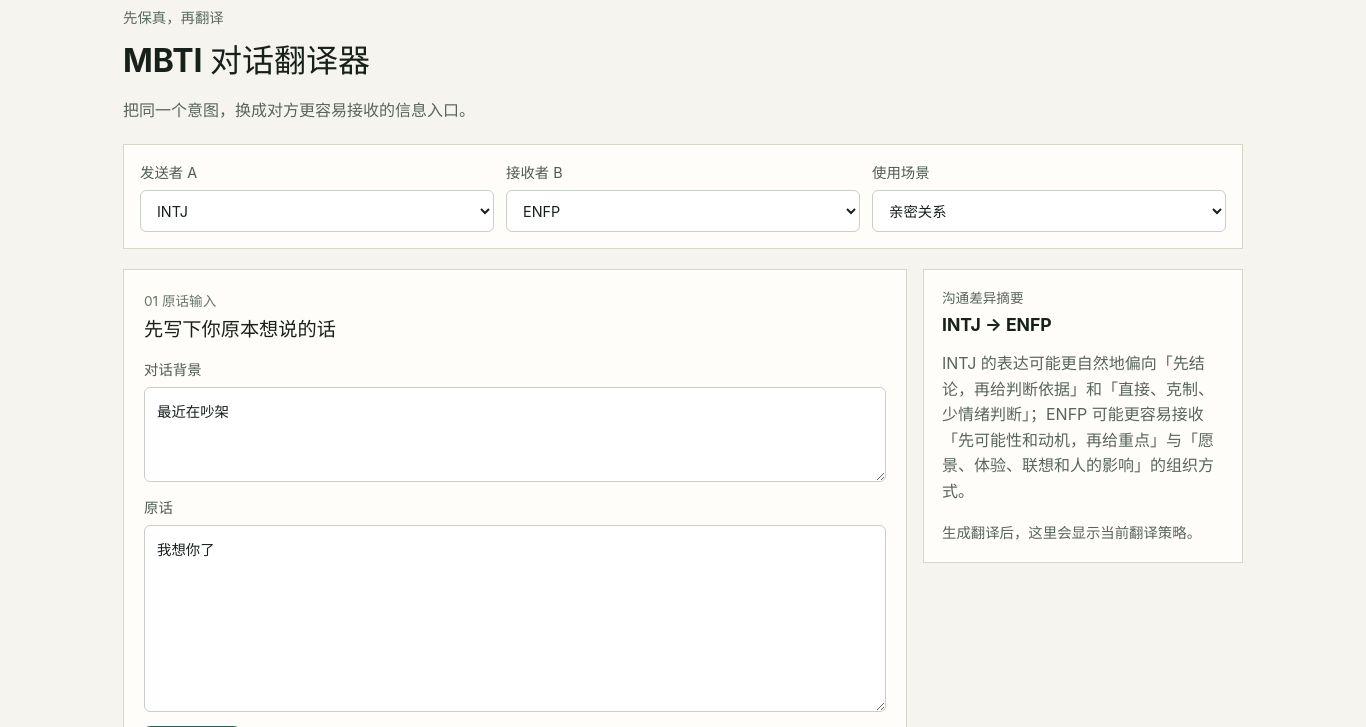
Test: ignores a stale intent response after the user changes the request input
Replace the text in the text box labelled "原话" with "你这样让我很没有安全感。" at (515, 619), box [144,525,886,712]
(page scrolled)
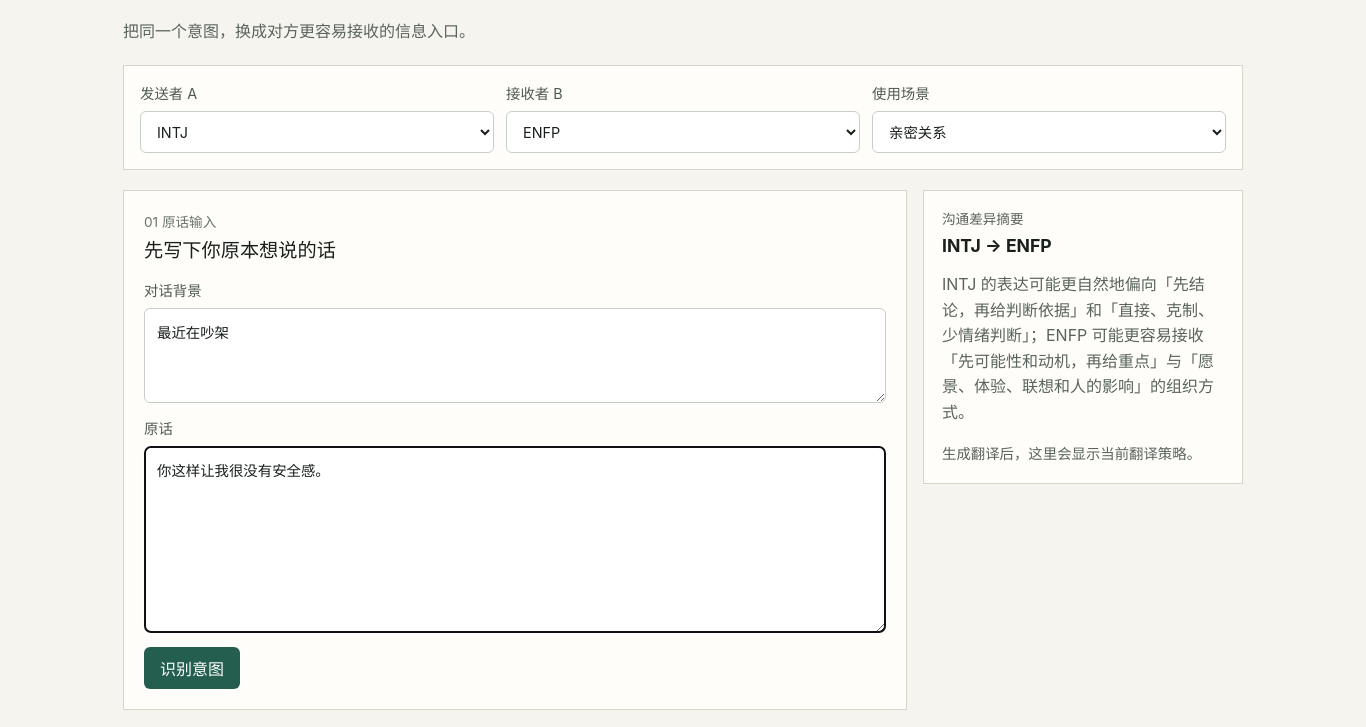
Click the button "识别意图" at (192, 668), box [144,647,240,689]
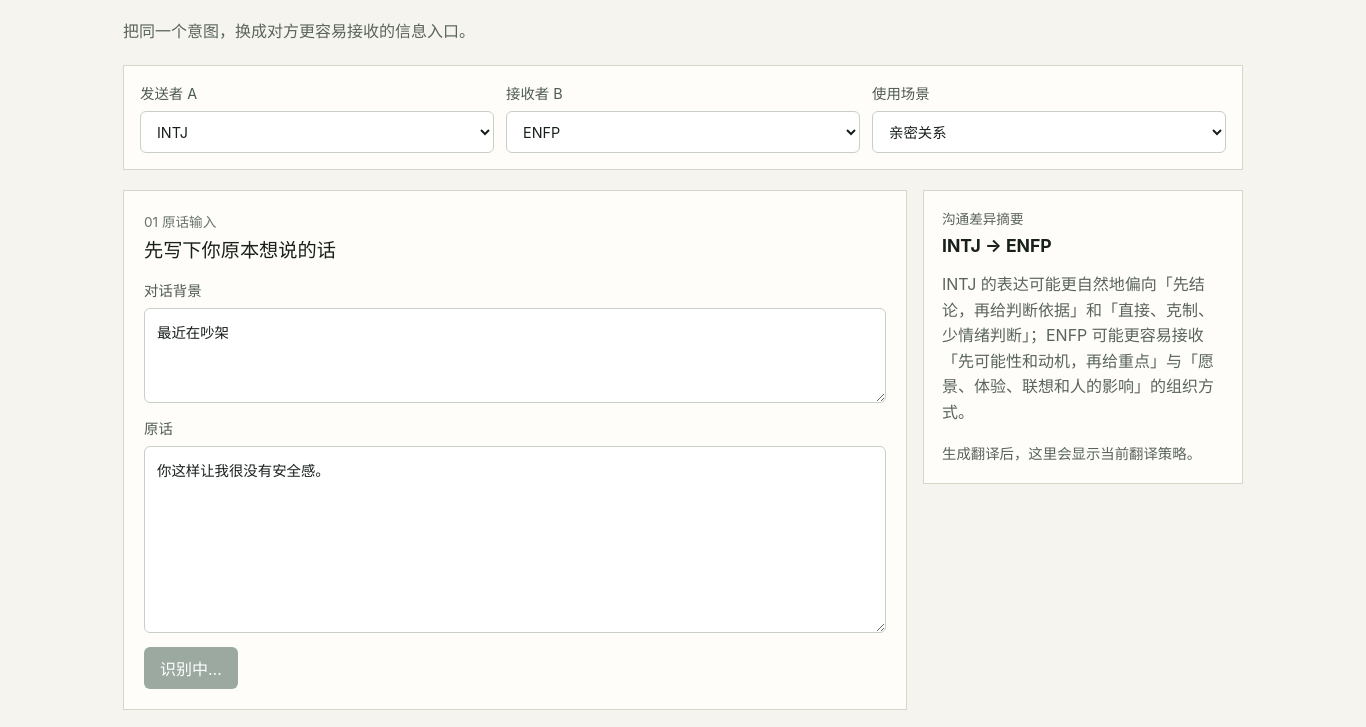
Select "ESFP" in the dropdown labelled "接收者 B" at (683, 132), box [506,111,860,153]
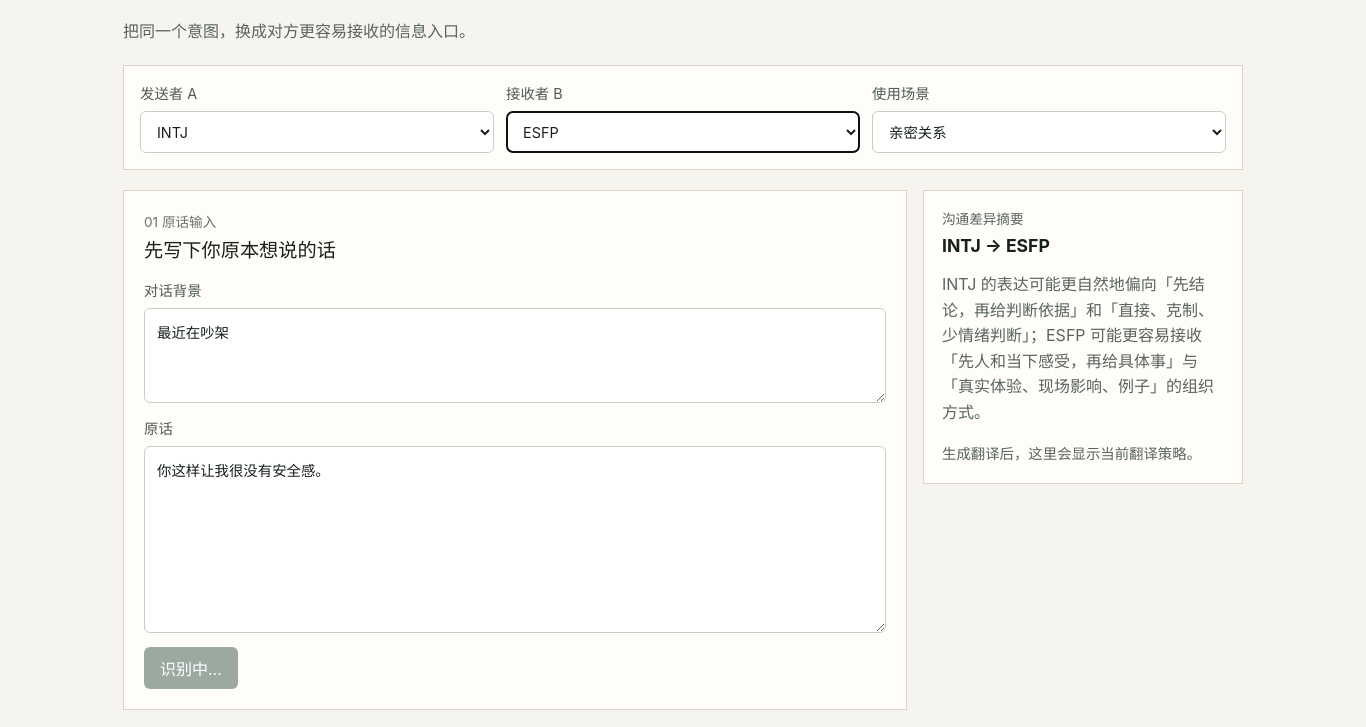
Type "我现在补充了新上下文。" into the text box labelled "原话" at (515, 540), box [144,446,886,633]
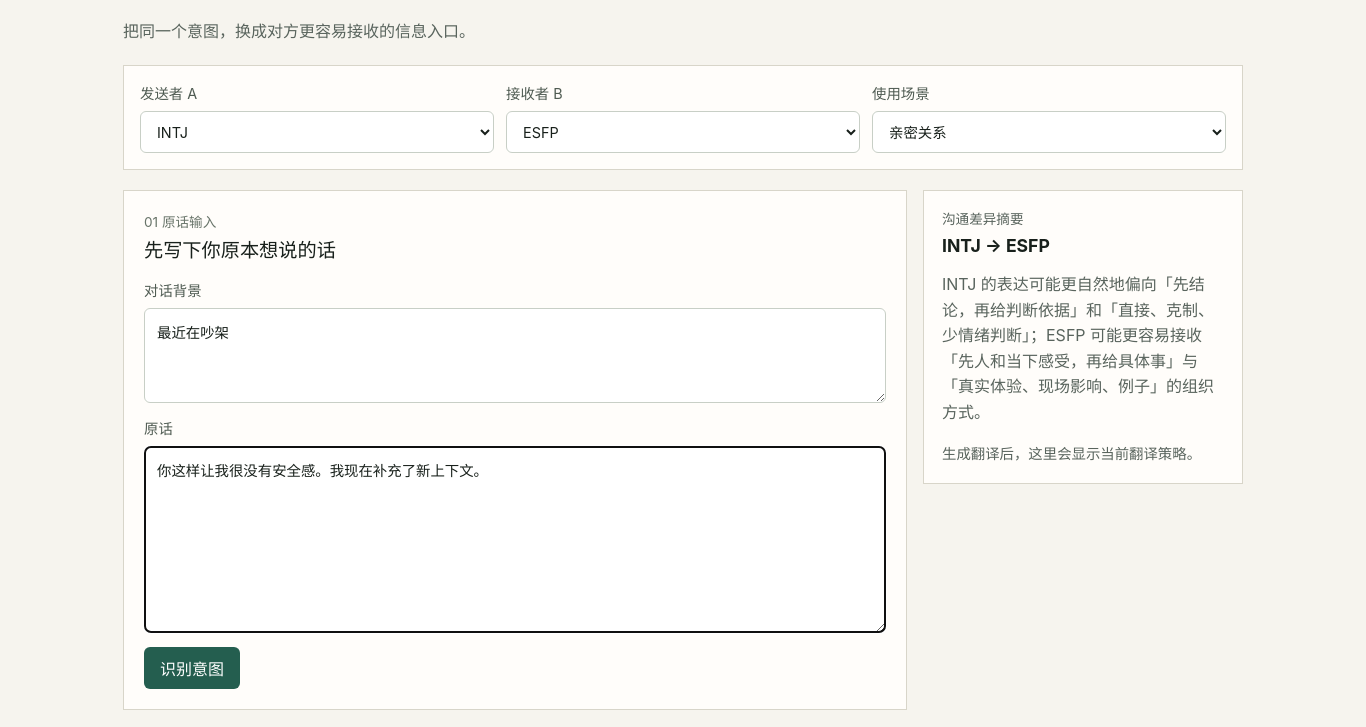
Check: the button "识别意图" is enabled, box [144,647,240,689]
